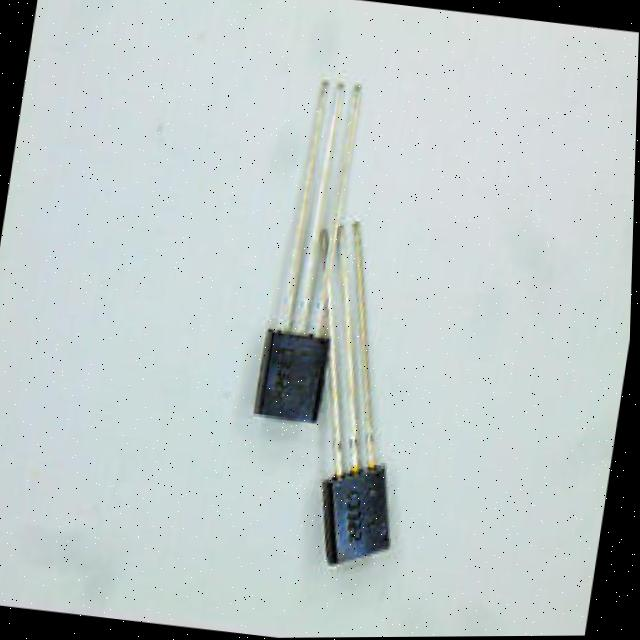Transistor: (242, 69, 378, 436), (326, 250, 403, 582)
